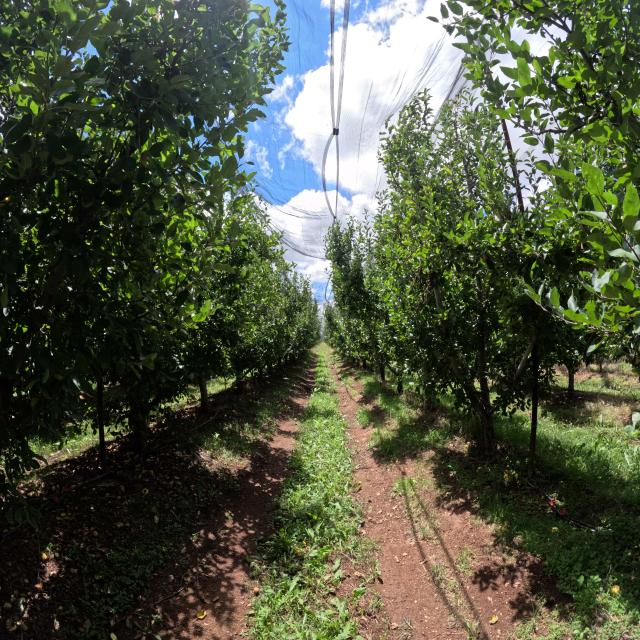-FireBlight-: (421, 266, 434, 303), (411, 264, 423, 294), (414, 304, 419, 313)
